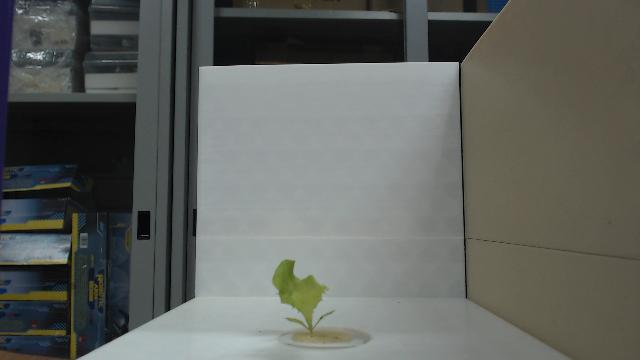Seedling Stage: (270, 257, 338, 338)
